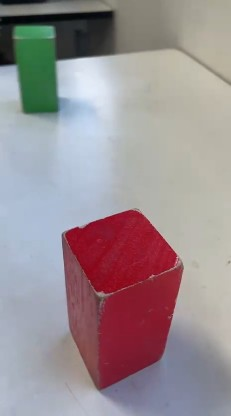red: (74, 208, 174, 375)
